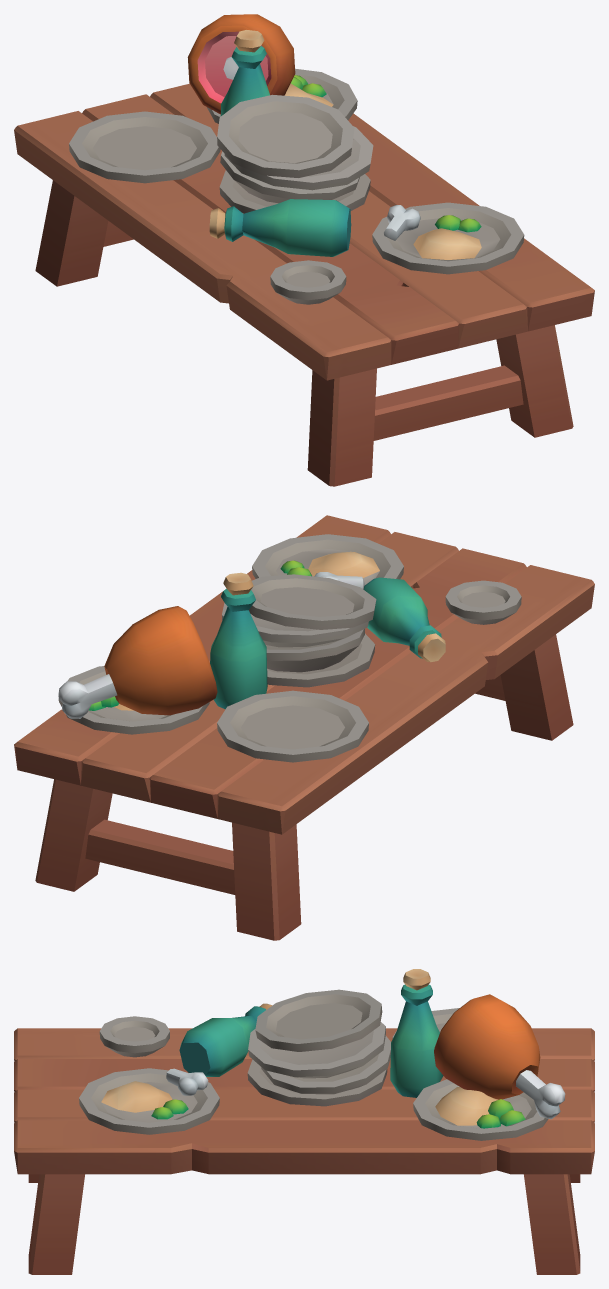
Rendered from table_long_decorated_A.glb.
3 renders of one model, top to bottom at view 1: azimuth 30°, elevation 25°; view 2: azimuth 150°, elevation 25°; view 3: azimuth 270°, elevation 25°, orthographic. The views are drawn at different scales.
Visible parts, largest first — view 1: table_long_decorated_A; view 2: table_long_decorated_A; view 3: table_long_decorated_A.
Boxes of the visible parts, box(x1,y1,x2,y2) form: table_long_decorated_A: box(14, 14, 594, 486); table_long_decorated_A: box(14, 515, 594, 940); table_long_decorated_A: box(14, 969, 594, 1274).
Bounding box in the file's own units: 2.06 × 1.89 × 4.
Materials: 1 (1 with a texture image).
